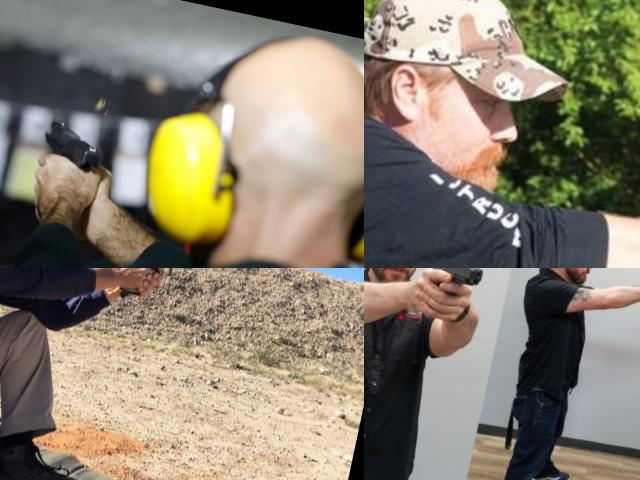handgun: (34, 114, 112, 186), (116, 268, 203, 308), (423, 268, 488, 308), (364, 268, 389, 284)
